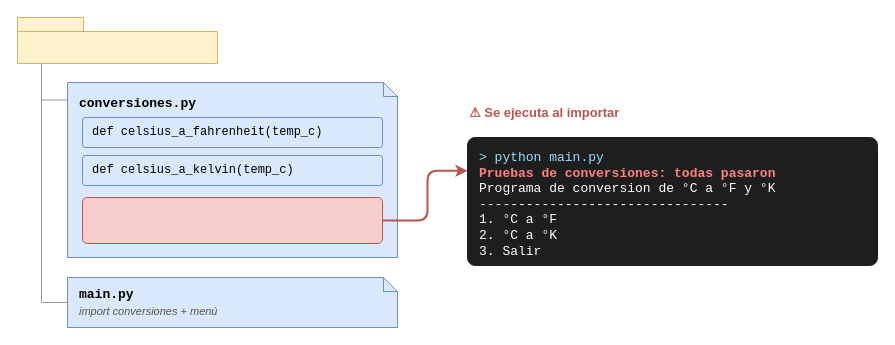
Some shapes in this 895 by 345 pixel diagram are drawn without their labels. Each missing label, with the centre of its shape:
1_sin_guarda/: (117,40)
assert ... (4 pruebas) print("Pruebas de conversiones: ..."): (232,220)
